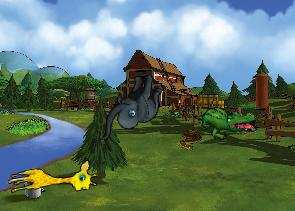crocodile: (192, 96, 259, 147)
elephant: (100, 70, 163, 145)
giraffe: (5, 158, 99, 204)
